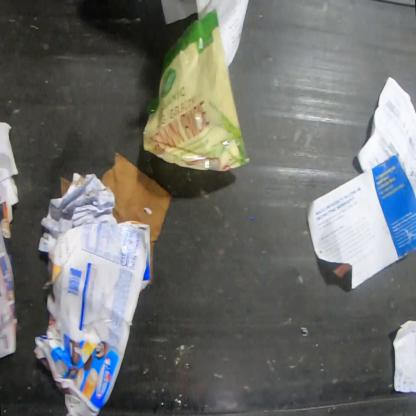cardboard: (34, 221, 151, 416), (102, 154, 173, 281)
soft_plastic: (143, 9, 251, 175)
